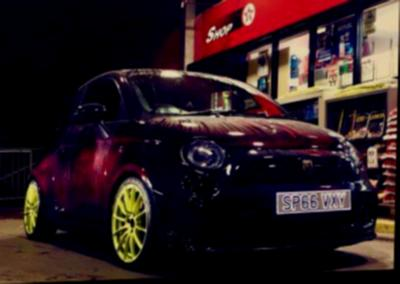License_Plate: (273, 187, 355, 217)
